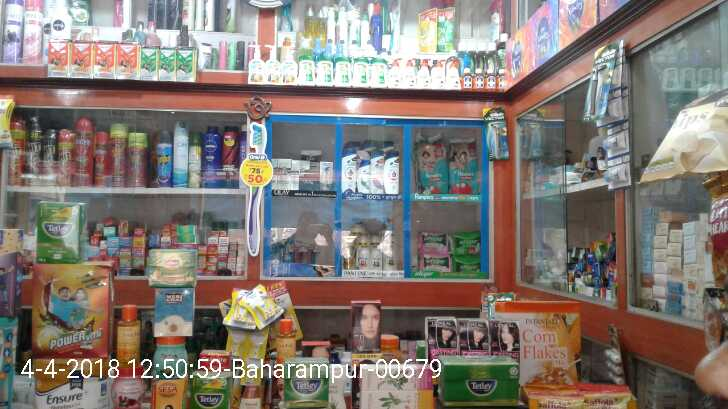ambipureVesus: (173, 119, 189, 187)
gillete: (585, 61, 610, 120)
